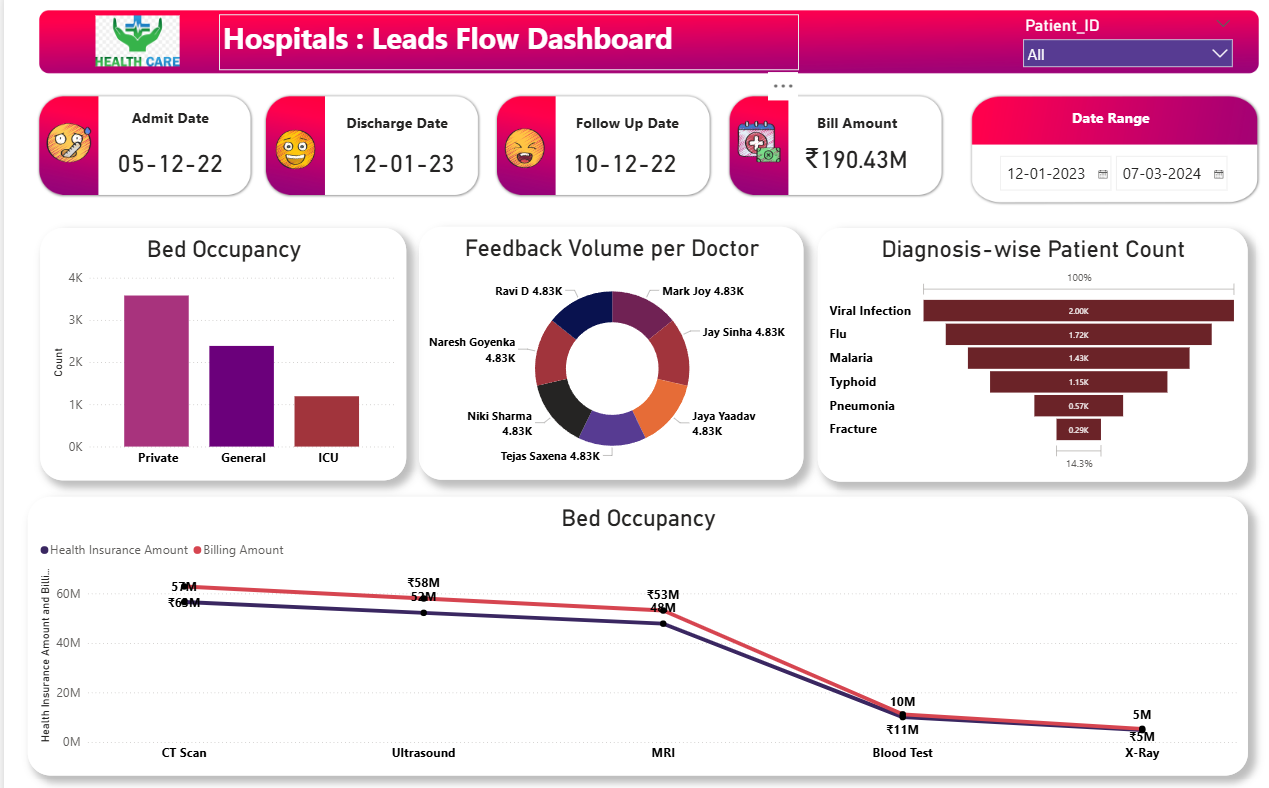

The dashboard page shown, as its layout file describes it:
{"tool":"powerbi","page":{"name":"Page 2","canvas":[1680,1050],"ordinal":0},"visuals":[{"type":"textbox","box":[280,27.1,755.7,74.3],"z":0},{"type":"image","box":[2636.7,100,623.3,150],"z":1000},{"type":"slicer","fields":{"Values":["Sheet1.Patient_ID"]},"box":[2400,373.3,793.3,420],"z":2000},{"type":"card","fields":{"Values":["Min(Sheet1.Admit_Date)"]},"box":[437.6,198.8,162.9,42.8],"z":3000},{"type":"card","fields":{"Values":["Min(Sheet1.Admit_Date)"]},"box":[129.8,198.8,172.6,42.8],"z":4000},{"type":"card","fields":{"Values":["Min(Sheet1.Followup Date)"]},"box":[724.3,198.6,167.1,42.9],"z":5000},{"type":"textbox","box":[152.9,145.7,127.1,57.1],"z":6000},{"type":"textbox","box":[437.1,151.4,151.4,37.1],"z":7000},{"type":"textbox","box":[732.9,151.4,158.6,37.1],"z":8000},{"type":"textbox","box":[1035.7,151.4,151.4,37.1],"z":9000},{"type":"card","fields":{"Values":["Sum(Sheet1.Billing Amount)"]},"box":[1031.4,194.3,158.6,42.9],"z":10000},{"type":"image","box":[50,157.1,68.6,74.3],"z":11000},{"type":"image","box":[348.6,172.9,62.9,62.9],"z":12000},{"type":"image","box":[640,171.4,77.1,62.9],"z":13000},{"type":"image","box":[951.4,158.6,65.7,71.4],"z":14000},{"type":"columnChart","title":"Bed Occupancy","fields":{"Category":["Sheet1.Bed_Occupancy"],"Y":["CountNonNull(Sheet1.Bed_Occupancy)"]},"box":[47.1,305.7,477.1,328.6],"z":15000},{"type":"donutChart","title":"Feedback Volume per Doctor","fields":{"Category":["Sheet1.Doctor"],"Y":["Sum(Sheet1.Feedback)"]},"box":[540.2,305.2,501,329.5],"z":16000},{"type":"funnel","title":"Diagnosis-wise Patient Count","fields":{"Category":["Sheet1.Diagnosis"],"Y":["CountNonNull(Sheet1.Diagnosis)"]},"box":[1060,305.7,560,330],"z":17000},{"type":"lineChart","title":"Bed Occupancy","fields":{"Y":["Sum(Sheet1.Health Insurance Amount)","Sum(Sheet1.Billing Amount)"],"Category":["Sheet1.Test"]},"box":[31.1,656.3,1589.5,363.3],"z":19000},{"type":"slicer","fields":{"Values":["Sheet1.Admit_Date"]},"box":[1284.3,201.2,360.6,68.9],"z":20000},{"type":"slicer","fields":{"Values":["Sheet1.Patient_ID"]},"box":[1317.1,24.3,292.9,82.9],"z":21000},{"type":"textbox","box":[1365.7,145.7,151.4,37.1],"z":22000},{"type":"image","box":[0,24.2,348.3,75.8],"z":22001}]}

Visuals, with their boxes in screenshot pixels (x1, y1, x2, y2), scaled from the page's 1680x1050 canvas onto the 1269x788 screenshot:
textbox: BBox(212, 20, 782, 76)
card - Min(Sheet1.Admit_Date): BBox(331, 149, 454, 181)
card - Min(Sheet1.Admit_Date): BBox(98, 149, 228, 181)
card - Min(Sheet1.Followup Date): BBox(547, 149, 673, 181)
textbox: BBox(115, 109, 212, 152)
textbox: BBox(330, 114, 445, 141)
textbox: BBox(554, 114, 673, 141)
textbox: BBox(782, 114, 897, 141)
card - Sum(Sheet1.Billing Amount): BBox(779, 146, 899, 178)
image: BBox(38, 118, 90, 174)
image: BBox(263, 130, 311, 177)
image: BBox(483, 129, 542, 176)
image: BBox(719, 119, 768, 173)
"Bed Occupancy" columnChart: BBox(36, 229, 396, 476)
"Feedback Volume per Doctor" donutChart: BBox(408, 229, 786, 476)
"Diagnosis-wise Patient Count" funnel: BBox(801, 229, 1224, 477)
"Bed Occupancy" lineChart: BBox(23, 493, 1224, 765)
slicer - Sheet1.Admit_Date: BBox(970, 151, 1242, 203)
slicer - Sheet1.Patient_ID: BBox(995, 18, 1216, 80)
textbox: BBox(1032, 109, 1146, 137)
image: BBox(0, 18, 263, 75)
